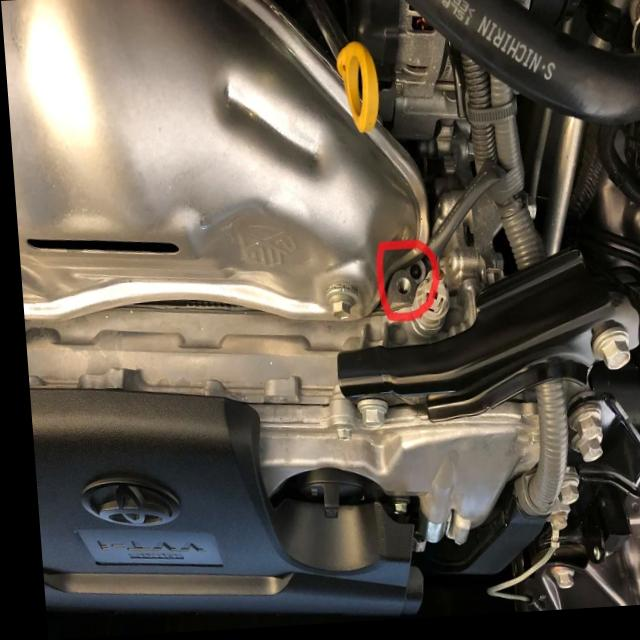Missing bolt: (389, 279, 409, 302)
Regular bolt: (591, 341, 624, 376), (565, 415, 595, 448), (569, 440, 597, 470), (351, 407, 381, 434), (325, 296, 348, 328), (551, 485, 570, 513), (545, 574, 565, 597), (542, 520, 559, 539), (385, 503, 400, 523), (329, 430, 344, 446)
